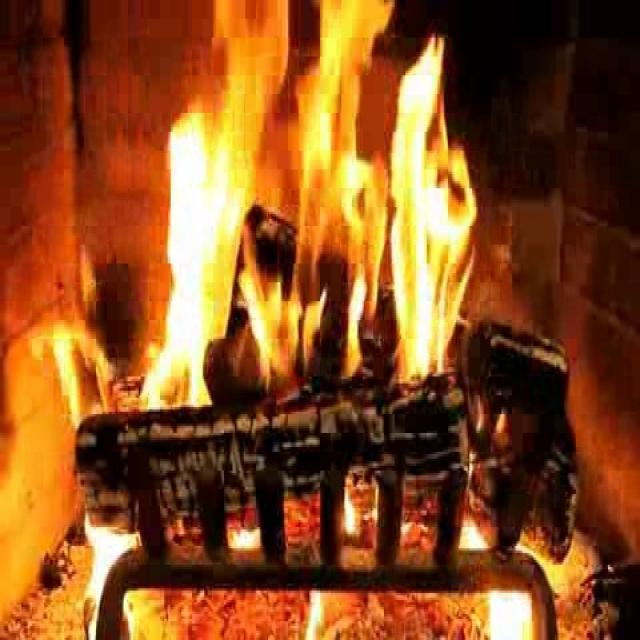Fire: (150, 1, 482, 432)
